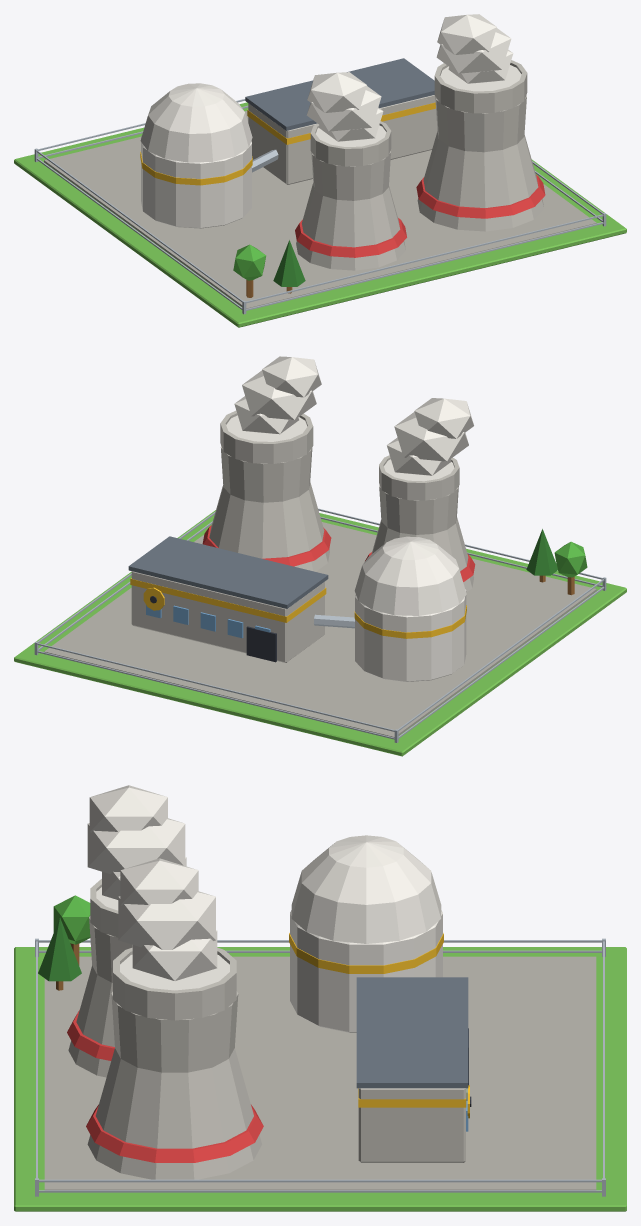
Rendered from nuclear_plant.glb.
3 renders of one model, top to bottom at view 1: azimuth 30°, elevation 25°; view 2: azimuth 150°, elevation 25°; view 3: azimuth 270°, elevation 25°, orthographic. The views are drawn at different scales.
Visible parts, largest first — view 1: corpo; view 2: corpo; view 3: corpo.
Part boxes in pixels (bbox=[...]): corpo: bbox=[14, 14, 626, 327]; corpo: bbox=[14, 356, 626, 756]; corpo: bbox=[14, 785, 626, 1211].
Size of the model in its own units: 8 by 4.04 by 8.
